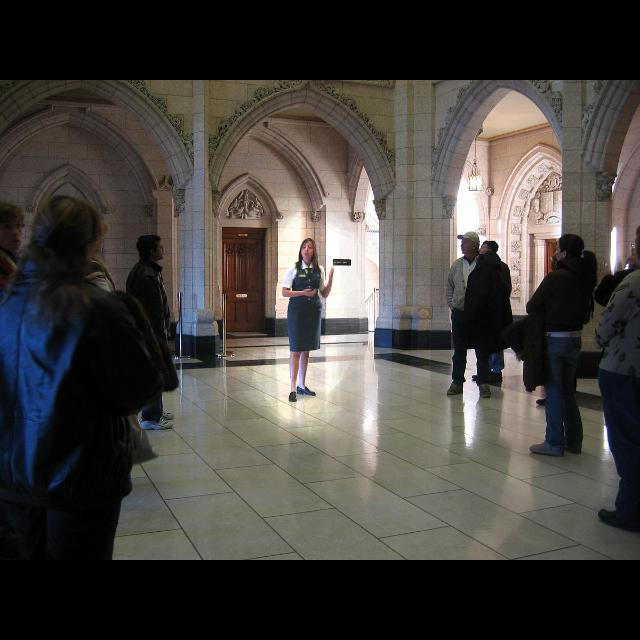head: (32, 197, 102, 276), (554, 233, 584, 265), (138, 234, 166, 262), (460, 233, 480, 255), (550, 249, 568, 271), (301, 240, 317, 258), (479, 242, 499, 256)
person: (500, 232, 600, 458), (446, 233, 516, 399), (123, 232, 181, 432), (536, 249, 596, 409), (281, 239, 337, 403), (462, 239, 506, 383)
